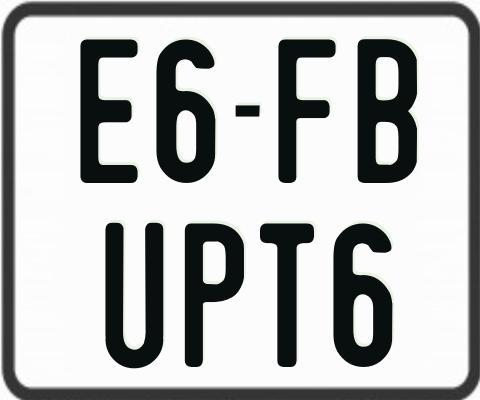6: (330, 223, 393, 373), (156, 38, 215, 182)
B: (358, 37, 417, 186)
E: (80, 36, 139, 186)
F: (275, 37, 339, 181)
P: (184, 222, 244, 369)
T: (260, 221, 315, 370)
U: (102, 223, 160, 374)
